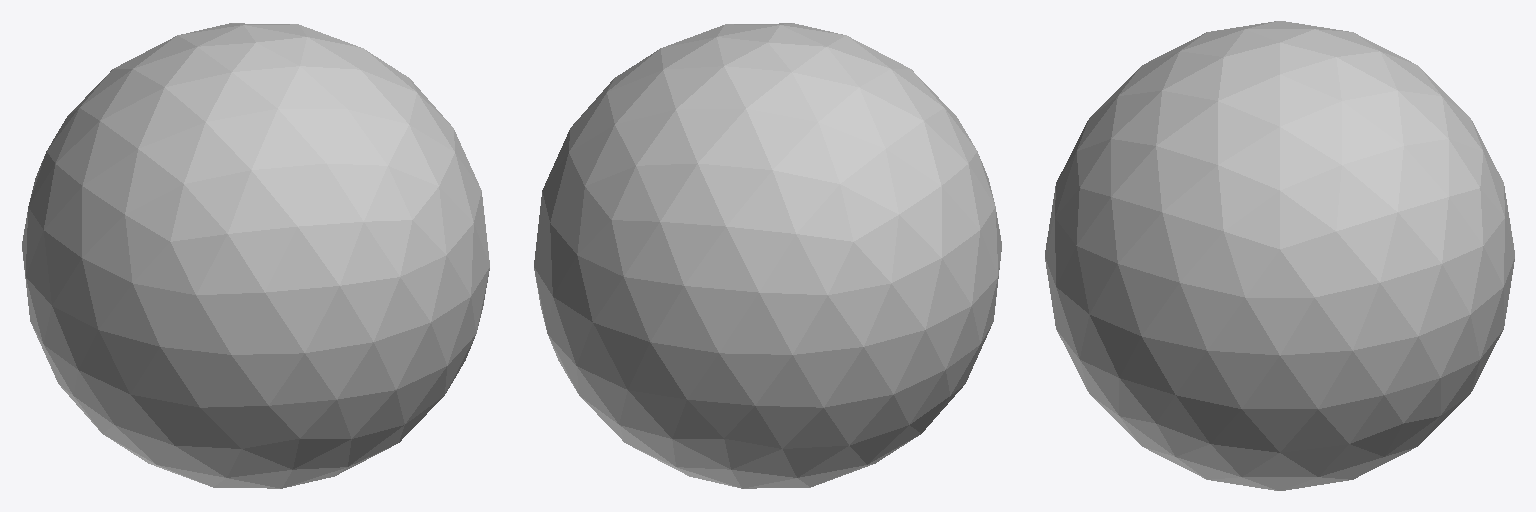
The model's file is flame.obj.
The picture shows the model from 3 angles: view 1: azimuth 30°, elevation 25°; view 2: azimuth 150°, elevation 25°; view 3: azimuth 270°, elevation 25°; orthographic projection.
Bounding box in the file's own units: 0.443 × 0.443 × 0.443.